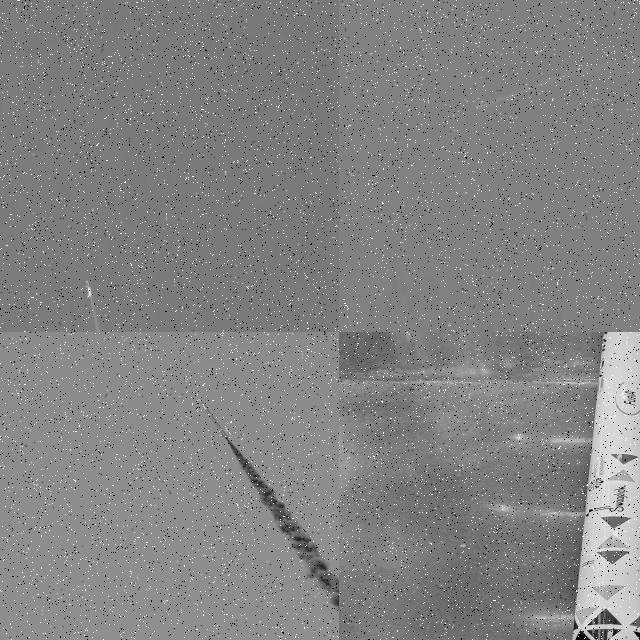Rocket: (572, 332, 640, 640), (198, 399, 232, 440), (86, 279, 92, 300), (476, 106, 478, 108)
